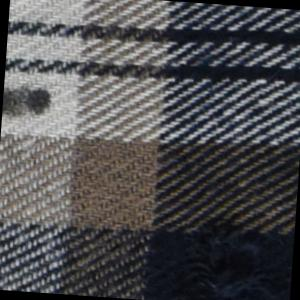Damage: (170, 210, 289, 300)
Stain: (3, 84, 54, 124)
